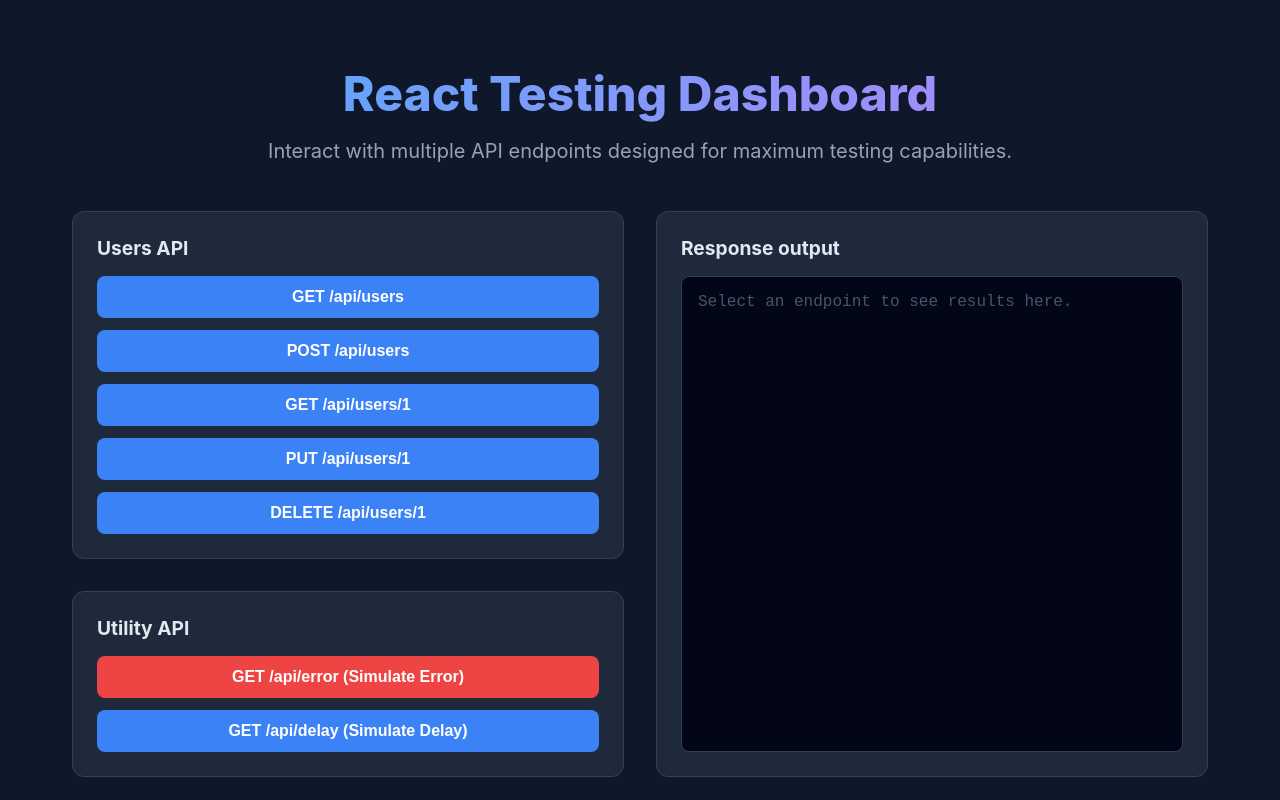
Test: Home Dashboard Component › handles simulated error endpoint
This screenshot has width=1280, height=800.
Click the button "GET /api/error (Simulate Error)".
click(348, 677)  # box [97,656,599,698]
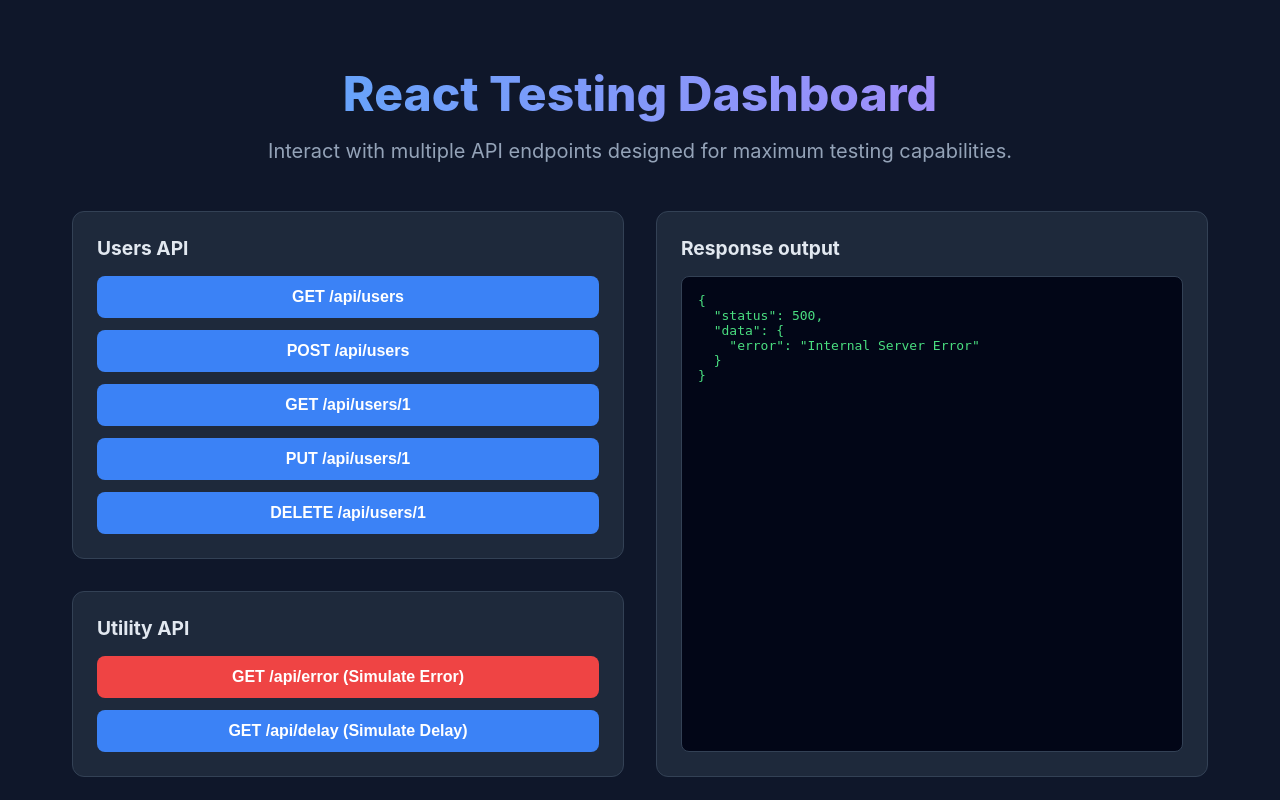
Expected: the text "Internal Server Error" is shown, [698,293,980,383]
